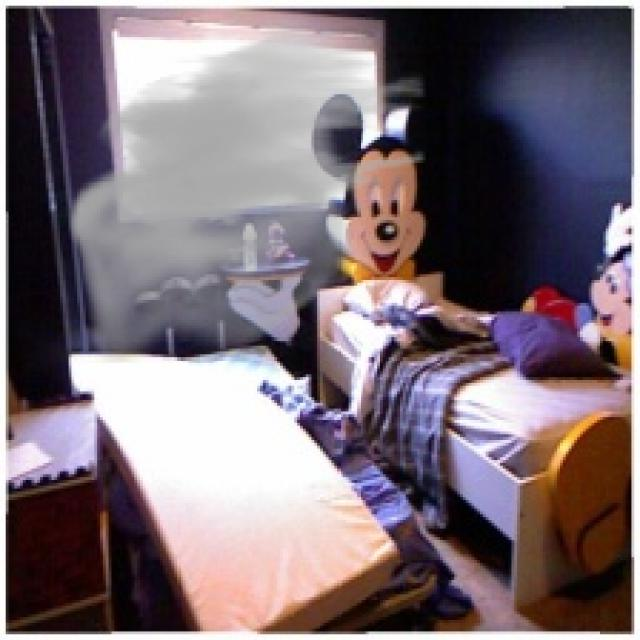smoke: (68, 20, 426, 363)
